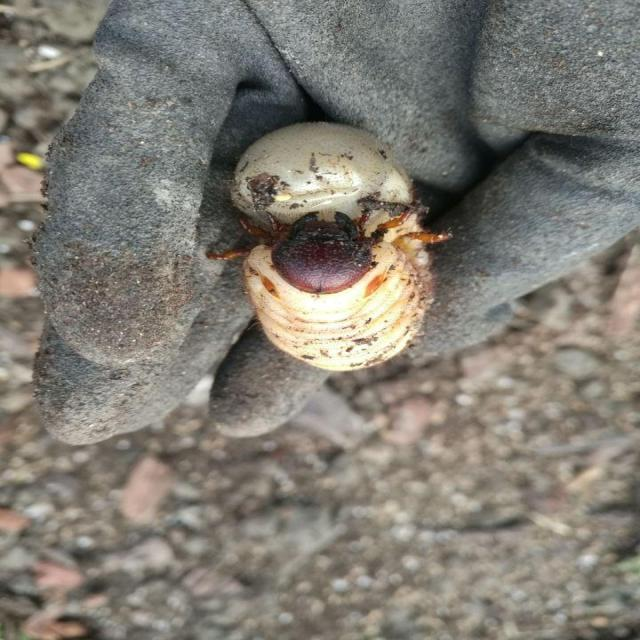grub: (224, 129, 434, 372)
